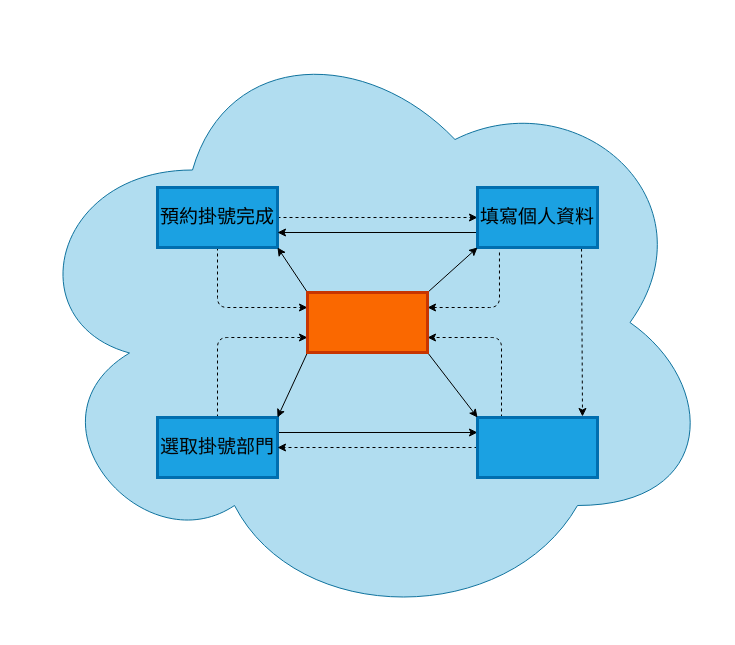
This 735x645 diagram has some shape labels left out. The centre of each missing label's shape, as x and y in pixels:
"選擇面診時間" goes at (537,447).
"醫院掛號網站" goes at (367,322).
